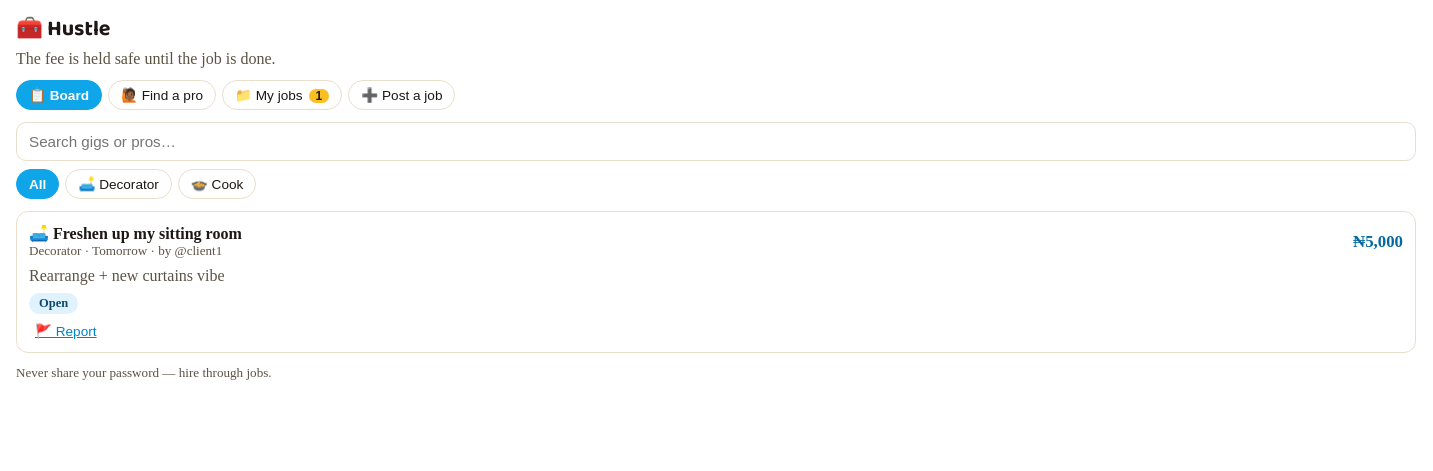
HustleApp › find-a-pro renders pro cards with stars, jobs done, from-rate and Book/Chat
Click the tab "🙋🏾 Find a pro" at (162, 95), box left=108, top=80, right=216, bottom=110
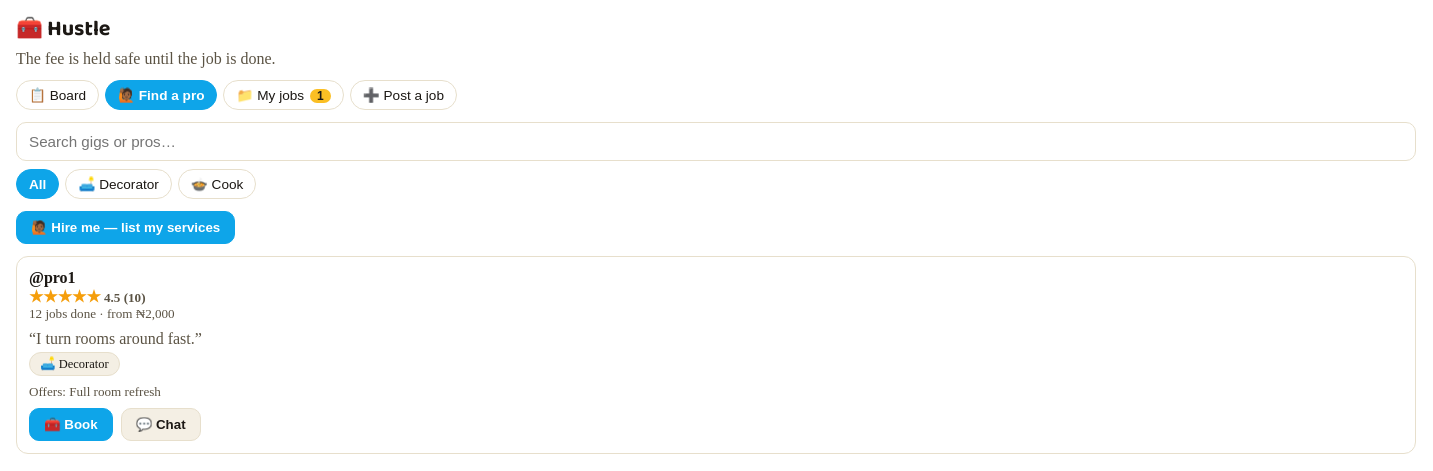
Check: the text "@pro1" is shown, box left=29, top=269, right=76, bottom=286
Check: the text "12 jobs done · from ₦2,000" is shown, box left=29, top=306, right=175, bottom=322
Check: the button "🧰 Book" is shown, box left=29, top=408, right=113, bottom=441
